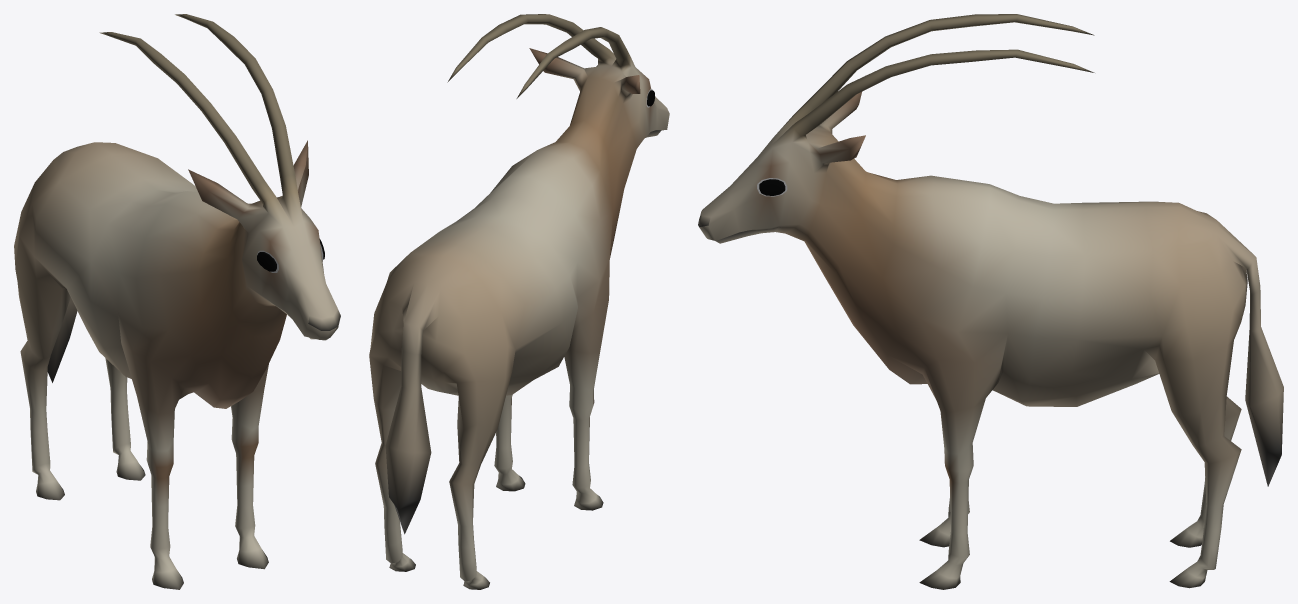
Rendered from animals-animals-oryx_v1.fbx.
3 views of the same model, side by side, from view 1: azimuth 30°, elevation 25°; view 2: azimuth 150°, elevation 25°; view 3: azimuth 270°, elevation 25° (orthographic). The views are drawn at different scales.
Visible parts, largest first — view 1: Oryx.001; view 2: Oryx.001; view 3: Oryx.001.
Part boxes in pixels (bbox=[...]): Oryx.001: bbox=[14, 14, 340, 589]; Oryx.001: bbox=[369, 14, 669, 589]; Oryx.001: bbox=[698, 14, 1283, 589].
Bounding box in the file's own units: 0.5707 × 1.78 × 1.79.
